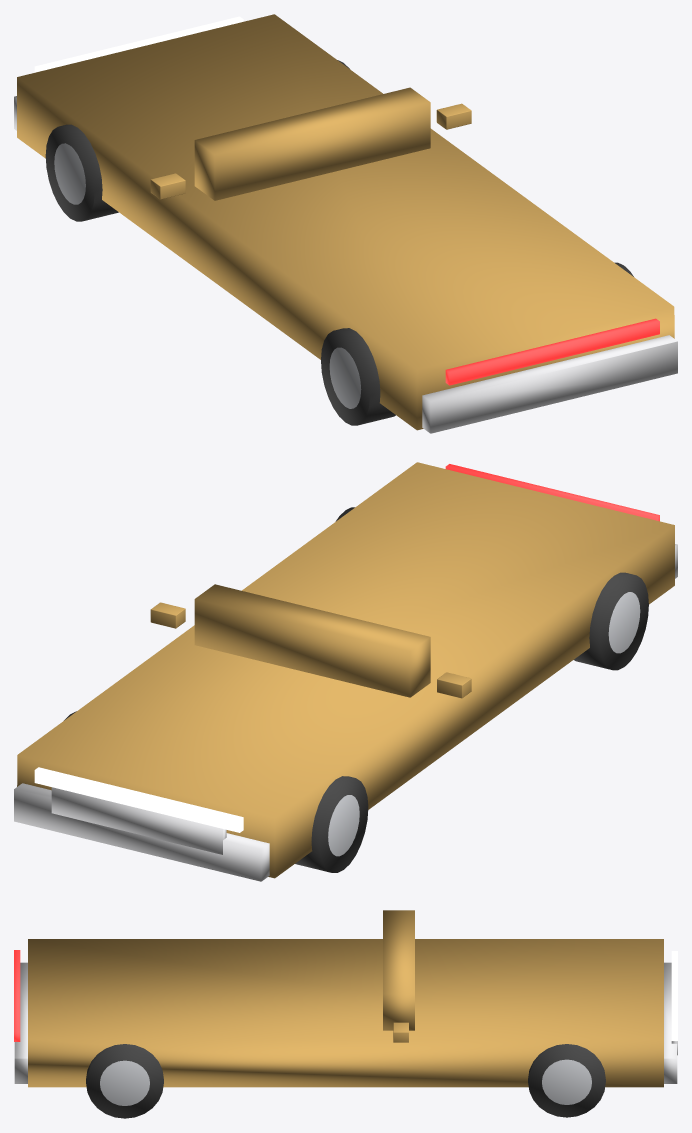
File: vehicle.glb
3 renders of one model, top to bottom at view 1: azimuth 30°, elevation 25°; view 2: azimuth 150°, elevation 25°; view 3: azimuth 270°, elevation 25°, orthographic. The views are drawn at different scales.
Visible parts, largest first — view 1: BODY_Main, BODY_Roof, BODY_Bumpers_Rear, LIGHT_Taillights, WHEEL_RR_Tire, WHEEL_FR_Tire, LIGHT_Headlights, WHEEL_FR_Alloy, WHEEL_RR_Alloy, BODY_Mirror_R, BODY_Mirror_L; view 2: BODY_Main, BODY_Roof, BODY_Bumpers_Front, BODY_Grille, LIGHT_Headlights, WHEEL_RR_Tire, WHEEL_FR_Tire, LIGHT_Taillights, WHEEL_FR_Alloy, WHEEL_RR_Alloy, BODY_Mirror_L, BODY_Mirror_R; view 3: BODY_Main, BODY_Roof, WHEEL_RL_Tire, WHEEL_FL_Tire, WHEEL_FL_Alloy, WHEEL_RL_Alloy, BODY_Bumpers_Rear, BODY_Bumpers_Front, LIGHT_Taillights, LIGHT_Headlights, BODY_Mirror_L.
Part boxes in pixels (x1,y1,x2,y2): BODY_Main: (17, 14, 674, 430); BODY_Roof: (194, 87, 430, 200); BODY_Bumpers_Rear: (422, 335, 677, 433); LIGHT_Taillights: (445, 318, 659, 385); WHEEL_RR_Tire: (321, 328, 395, 425); WHEEL_FR_Tire: (45, 124, 118, 221); LIGHT_Headlights: (34, 16, 243, 72); WHEEL_FR_Alloy: (54, 143, 85, 204); WHEEL_RR_Alloy: (329, 347, 361, 408); BODY_Mirror_R: (150, 173, 185, 199); BODY_Mirror_L: (436, 103, 471, 129); BODY_Main: (17, 462, 674, 878); BODY_Roof: (194, 584, 430, 697); BODY_Bumpers_Front: (14, 783, 269, 881); BODY_Grille: (51, 787, 226, 854); LIGHT_Headlights: (34, 767, 243, 832); WHEEL_RR_Tire: (574, 572, 648, 670); WHEEL_FR_Tire: (295, 776, 368, 872); LIGHT_Taillights: (445, 464, 659, 521); WHEEL_FR_Alloy: (328, 795, 359, 856); WHEEL_RR_Alloy: (608, 592, 640, 653); BODY_Mirror_L: (150, 602, 185, 628); BODY_Mirror_R: (437, 672, 471, 698); BODY_Main: (28, 939, 663, 1087); BODY_Roof: (383, 910, 414, 1030); WHEEL_RL_Tire: (86, 1044, 163, 1118); WHEEL_FL_Tire: (528, 1044, 605, 1117); WHEEL_FL_Alloy: (542, 1059, 591, 1104); WHEEL_RL_Alloy: (100, 1060, 149, 1105); BODY_Bumpers_Rear: (14, 962, 27, 1083); BODY_Bumpers_Front: (664, 962, 677, 1083); LIGHT_Taillights: (14, 950, 20, 1041); LIGHT_Headlights: (671, 951, 677, 1040); BODY_Mirror_L: (393, 1022, 408, 1042).
Size of the model in its own units: 2.2 by 0.9539 by 5.11.
